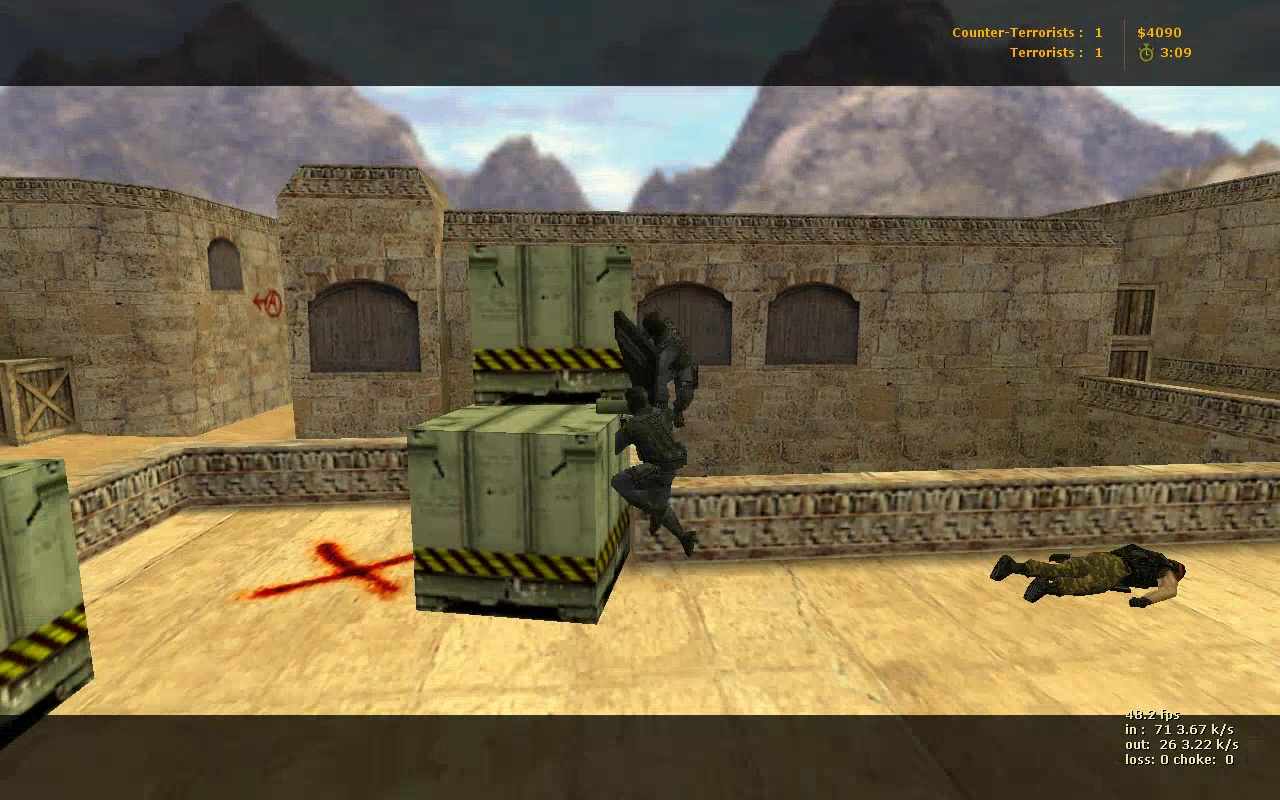ct: (609, 385, 696, 558), (621, 311, 700, 428)
dead: (989, 542, 1184, 610)
